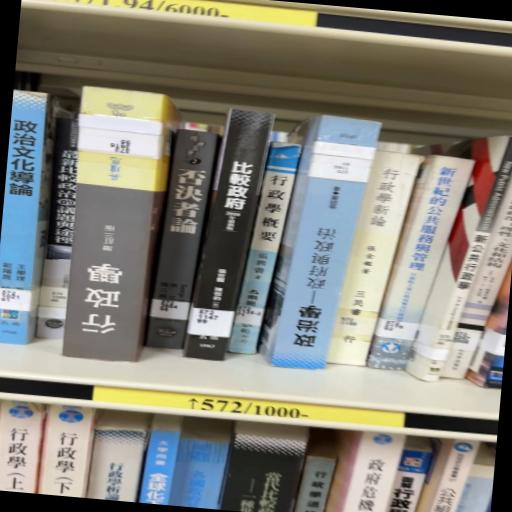reverse: (63, 88, 182, 363), (260, 117, 382, 371)
